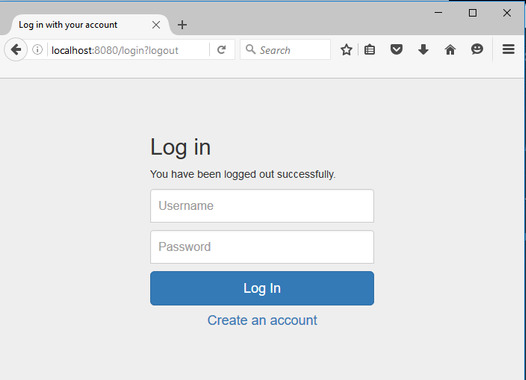_form_: (94, 112, 478, 380)
button: (148, 269, 376, 307)
field: (149, 188, 376, 224), (149, 230, 376, 265)
